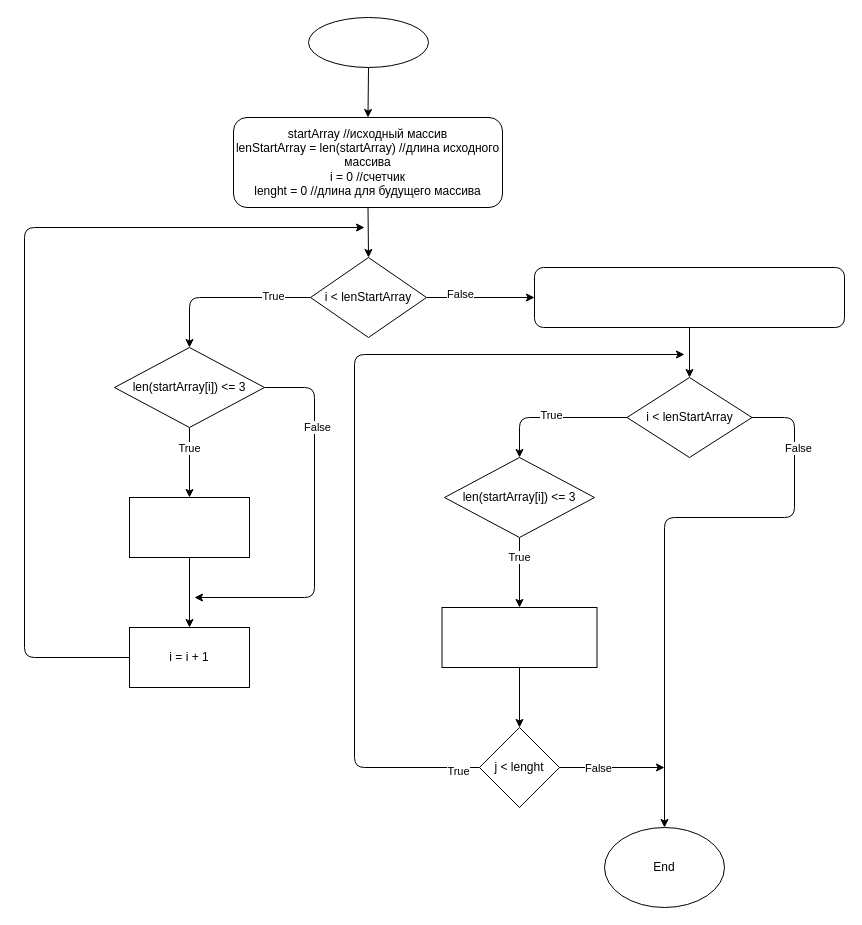
Image size: 862x925. Some labels were removed from this diagram. The shapes that lost their labels are listed below. From the top down, each one's box as (x1, y1, x2, y2) in pixels, then its label:
(308, 16, 428, 68): Start
(534, 266, 844, 328): endArray = new array(lenght) //новый массив длиной lenght j = 0 i = 0
(128, 496, 250, 558): lenght = lenght + 1
(441, 606, 597, 668): endArray[j] = startArray[i] i = i + 1 j = j + 1
